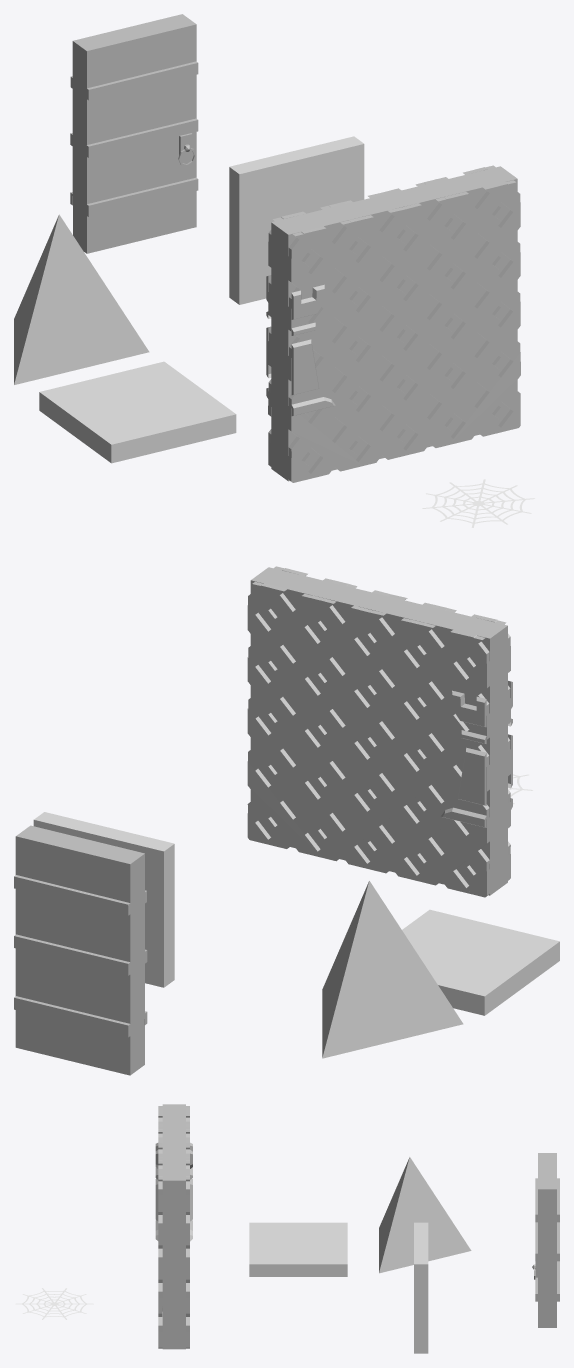
The picture shows the model from 3 angles, top to bottom: view 1: azimuth 30°, elevation 25°; view 2: azimuth 150°, elevation 25°; view 3: azimuth 270°, elevation 25°; orthographic projection. The views are drawn at different scales.
Visible parts, largest first — view 1: Door_4, Door_0, Puzzle_3, Puzzle_1, Puzzle_2, Plane001; view 2: Door_4, Door_0, Puzzle_1, Puzzle_3, Puzzle_2; view 3: Door_4, Puzzle_3, Puzzle_1, Door_0, Puzzle_2, Plane001.
Boxes of the visible parts, <box> form: Door_4: <box>266,165,520,482</box>; Door_0: <box>70,14,198,253</box>; Puzzle_3: <box>39,361,236,463</box>; Puzzle_1: <box>14,214,149,384</box>; Puzzle_2: <box>229,136,364,304</box>; Plane001: <box>422,479,534,527</box>; Door_4: <box>247,566,512,897</box>; Door_0: <box>14,825,147,1075</box>; Puzzle_1: <box>322,881,463,1058</box>; Puzzle_3: <box>402,909,559,1015</box>; Puzzle_2: <box>33,812,174,987</box>; Door_4: <box>155,1104,192,1349</box>; Puzzle_3: <box>249,1222,347,1276</box>; Puzzle_1: <box>379,1157,471,1273</box>; Door_0: <box>532,1153,559,1327</box>; Puzzle_2: <box>414,1222,428,1353</box>; Plane001: <box>15,1288,93,1319</box>.
Size of the model in its own units: 1054 by 663 by 1939.
